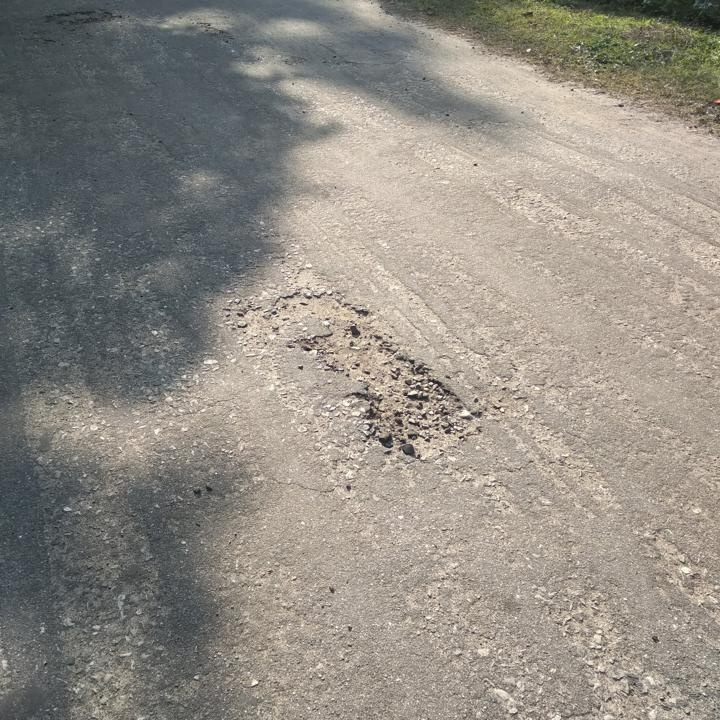pothole: (263, 285, 490, 459)
